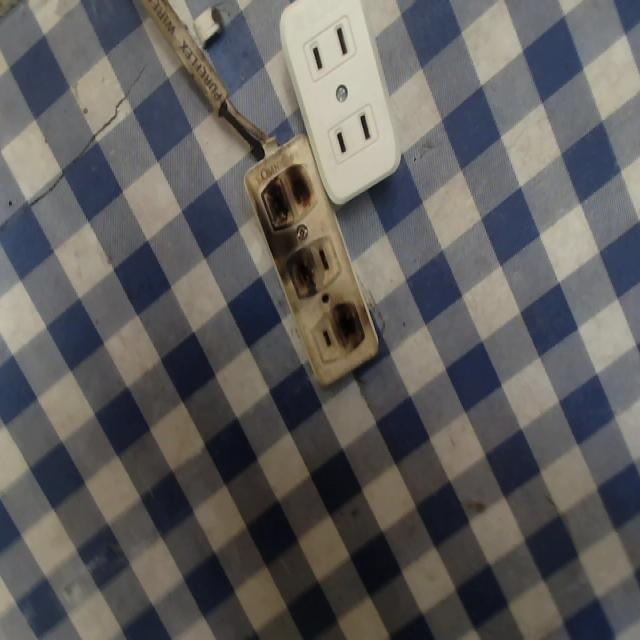-: (257, 157, 317, 227), (328, 297, 367, 359), (282, 247, 314, 304)
